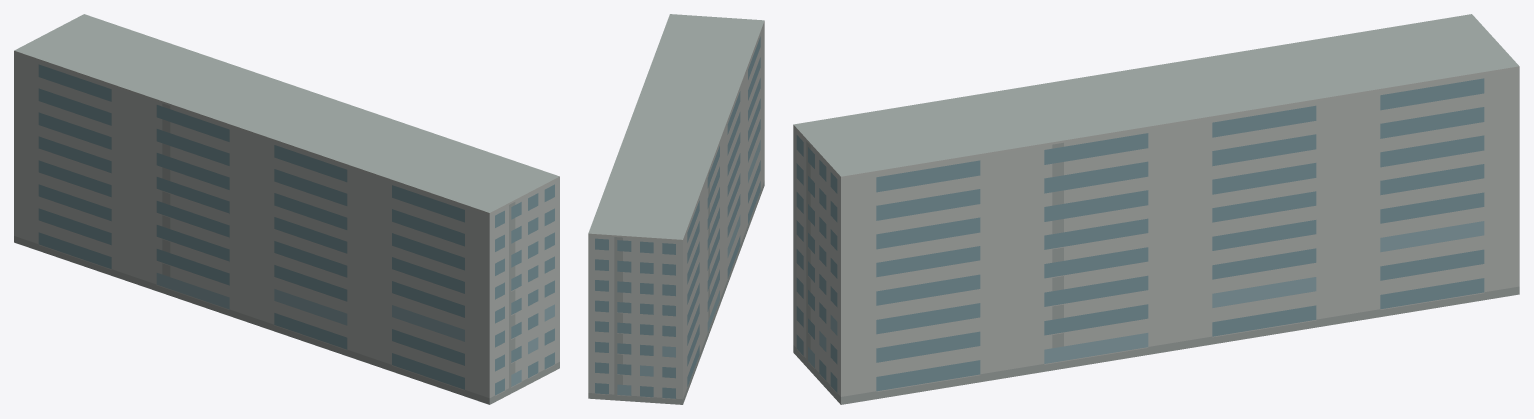
The model's file is residential-e18afb6d-fde1-4393-8e62-97c62369600e.glb.
The picture shows the model from 3 angles, left to right: view 1: azimuth 30°, elevation 25°; view 2: azimuth 150°, elevation 25°; view 3: azimuth 270°, elevation 25°; orthographic projection. The views are drawn at different scales.
Visible parts, largest first — view 1: residential-e18afb6d-fde1-4393-8e62-97c62369600e.tmp; view 2: residential-e18afb6d-fde1-4393-8e62-97c62369600e.tmp; view 3: residential-e18afb6d-fde1-4393-8e62-97c62369600e.tmp.
Boxes of the visible parts, x1=… form: residential-e18afb6d-fde1-4393-8e62-97c62369600e.tmp: x1=14, y1=14, x2=559, y2=404; residential-e18afb6d-fde1-4393-8e62-97c62369600e.tmp: x1=588, y1=14, x2=764, y2=404; residential-e18afb6d-fde1-4393-8e62-97c62369600e.tmp: x1=793, y1=14, x2=1519, y2=404.
Bounding box in the file's own units: 37.32 × 24.4 × 70.38.
